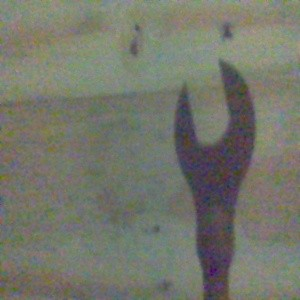spanner: (172, 55, 257, 300)
